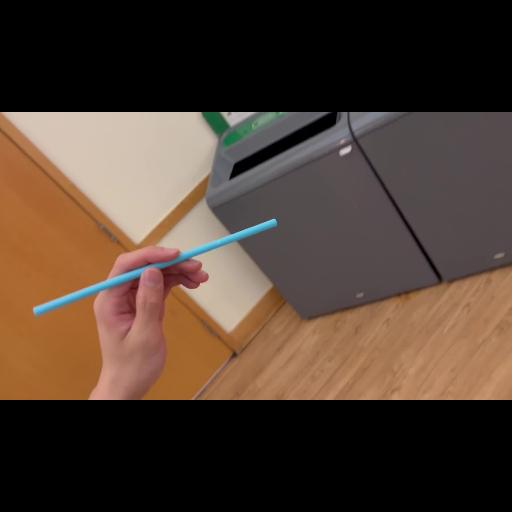straw: (30, 216, 278, 316)
